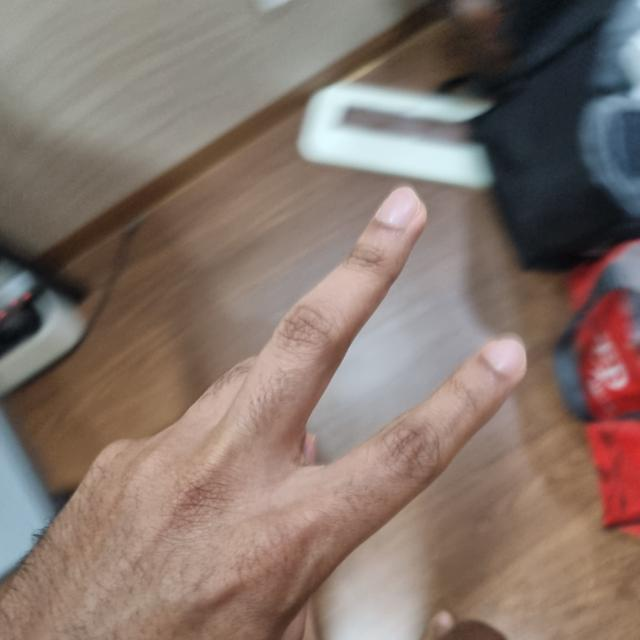Scissors: (1, 178, 519, 639)
